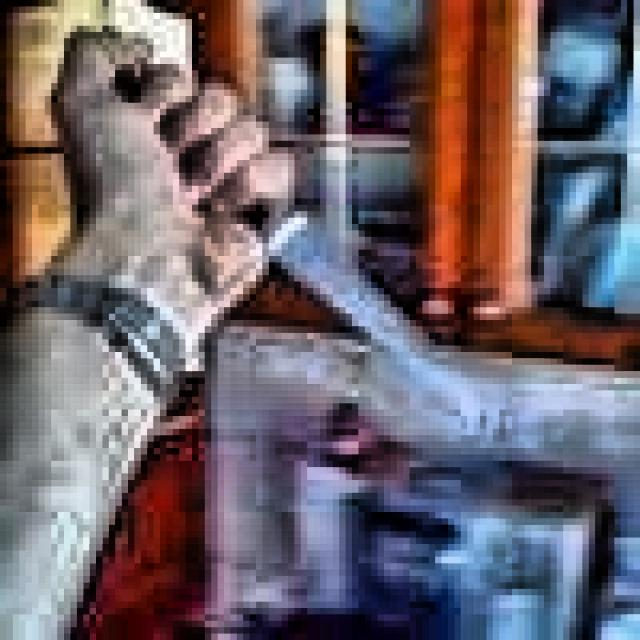knife: (118, 73, 480, 426)
